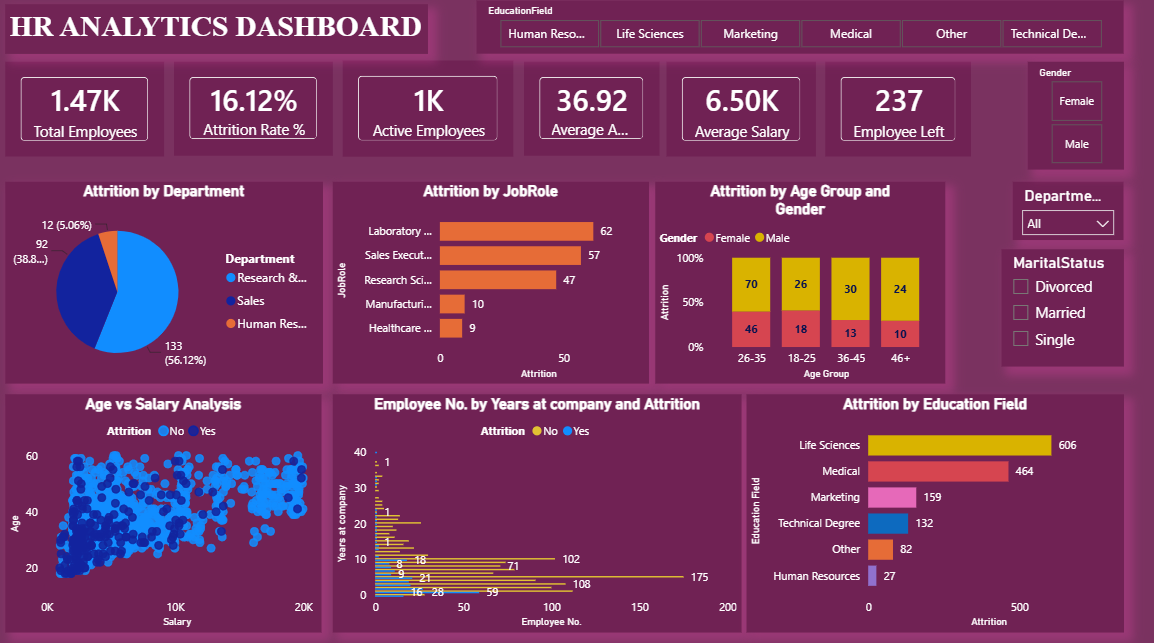

Layout of this report page (visuals, bound fields, positions):
{"tool":"powerbi","page":{"name":"Page 1","canvas":[1280,720],"ordinal":0},"visuals":[{"type":"cardVisual","fields":{"Data":["CountNonNull(HR Analytics.EmployeeCount)"]},"box":[12.9,75.7,174.3,104.3],"z":0},{"type":"cardVisual","fields":{"Data":["HR Analytics.Attrition Rate %"]},"box":[197.1,75.7,174.3,102.9],"z":1000},{"type":"cardVisual","fields":{"Data":["Avg(HR Analytics.Age)"]},"box":[581.4,75.7,148.6,102.9],"z":2000},{"type":"cardVisual","fields":{"Data":["HR Analytics.Average Salary"]},"box":[738.6,75.7,164.3,104.3],"z":3000},{"type":"pieChart","fields":{"Y":["HR Analytics.Employee Left"],"Category":["HR Analytics.Department"]},"box":[12.9,207.1,348.6,221.4],"z":4000},{"type":"barChart","fields":{"Category":["HR Analytics.JobRole"],"Y":["HR Analytics.Employee Left"]},"box":[371.4,207.1,347.1,221.4],"z":5000},{"type":"hundredPercentStackedColumnChart","fields":{"Category":["HR Analytics.Age Group"],"Series":["HR Analytics.Gender"],"Y":["HR Analytics.Employee Left"]},"box":[725.7,207.1,318.6,221.4],"z":6000},{"type":"scatterChart","title":"Age vs Salary Analysis","fields":{"X":["Sum(HR Analytics.MonthlyIncome)"],"Y":["Sum(HR Analytics.Age)"],"Category":["HR Analytics.EmployeeNumber"],"Series":["HR Analytics.Attrition"]},"box":[12.9,440,347.1,261.4],"z":7000},{"type":"cardVisual","fields":{"Data":["HR Analytics.Employee Left"]},"box":[912.9,75.7,160,104.3],"z":8000},{"type":"cardVisual","fields":{"Data":["HR Analytics.Active Employees"]},"box":[382.9,74.3,187.1,105.7],"z":9000},{"type":"textbox","box":[12.9,12.9,464.3,54.3],"z":10000},{"type":"clusteredBarChart","fields":{"Category":["HR Analytics.YearsAtCompany"],"Series":["HR Analytics.Attrition"],"Y":["Count(HR Analytics.EmployeeNumber)"]},"box":[371.4,440,448.6,261.4],"z":11000},{"type":"barChart","fields":{"Category":["HR Analytics.EducationField"],"Y":["CountNonNull(HR Analytics.Attrition)"]},"box":[825.7,440,414.3,261.4],"z":12000},{"type":"slicer","fields":{"Values":["HR Analytics.Department"]},"box":[1118.6,207.1,121.4,64.3],"z":12001},{"type":"slicer","fields":{"Values":["HR Analytics.EducationField"]},"box":[530,8.6,710,58.6],"z":12002},{"type":"slicer","fields":{"Values":["HR Analytics.Gender"]},"box":[1134.3,75.7,105.7,118.6],"z":12003},{"type":"slicer","fields":{"Values":["HR Analytics.MaritalStatus"]},"box":[1105.7,281.4,134.3,128.6],"z":12004}]}

Visuals, with their boxes in screenshot pixels (x1, y1, x2, y2), scaled from the page's 1280x720 canvas onto the 1154x643 screenshot:
cardVisual - CountNonNull(HR Analytics.EmployeeCount): locate(12, 68, 169, 161)
cardVisual - HR Analytics.Attrition Rate %: locate(178, 68, 335, 159)
cardVisual - Avg(HR Analytics.Age): locate(524, 68, 658, 159)
cardVisual - HR Analytics.Average Salary: locate(666, 68, 814, 161)
pieChart - HR Analytics.Employee Left x HR Analytics.Department: locate(12, 185, 326, 383)
barChart - HR Analytics.JobRole x HR Analytics.Employee Left: locate(335, 185, 648, 383)
hundredPercentStackedColumnChart - HR Analytics.Age Group x HR Analytics.Gender: locate(654, 185, 942, 383)
"Age vs Salary Analysis" scatterChart: locate(12, 393, 325, 626)
cardVisual - HR Analytics.Employee Left: locate(823, 68, 967, 161)
cardVisual - HR Analytics.Active Employees: locate(345, 66, 514, 161)
textbox: locate(12, 12, 430, 60)
clusteredBarChart - HR Analytics.YearsAtCompany x HR Analytics.Attrition: locate(335, 393, 739, 626)
barChart - HR Analytics.EducationField x CountNonNull(HR Analytics.Attrition): locate(744, 393, 1118, 626)
slicer - HR Analytics.Department: locate(1008, 185, 1118, 242)
slicer - HR Analytics.EducationField: locate(478, 8, 1118, 60)
slicer - HR Analytics.Gender: locate(1023, 68, 1118, 174)
slicer - HR Analytics.MaritalStatus: locate(997, 251, 1118, 366)
